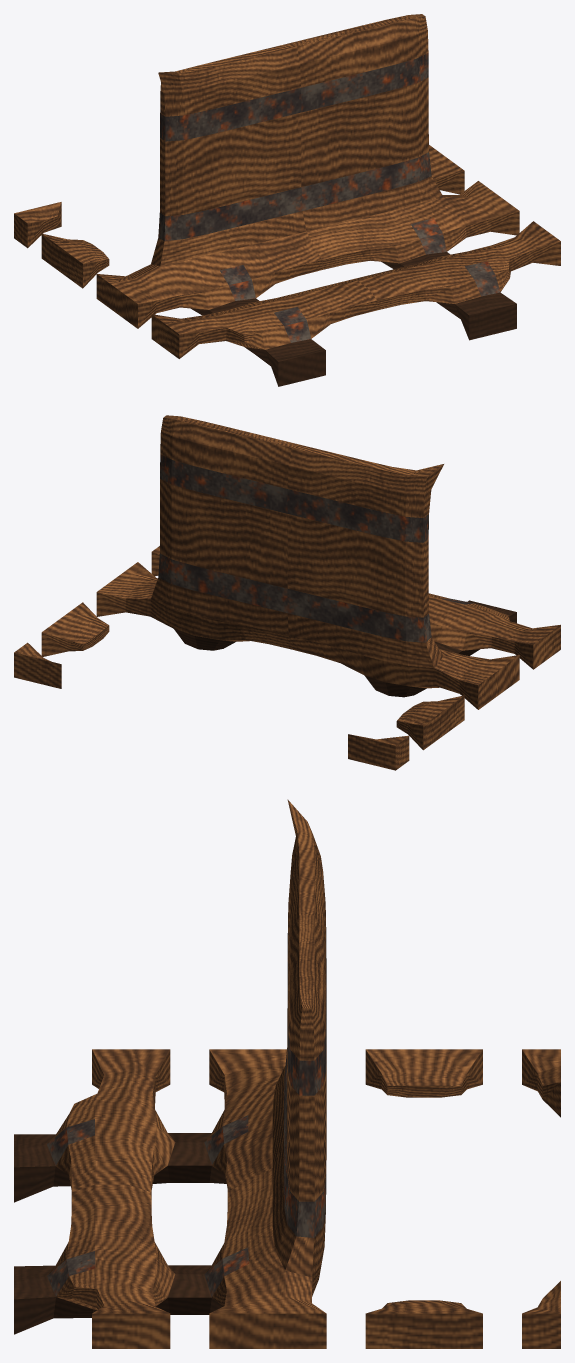
File: platform_deck_hatch.glb
3 views of the same model, one above another, from view 1: azimuth 30°, elevation 25°; view 2: azimuth 150°, elevation 25°; view 3: azimuth 270°, elevation 25° (orthographic). The views are drawn at different scales.
Parts seen in each view (by area): view 1: crypt_platform_deck_hatch; view 2: crypt_platform_deck_hatch; view 3: crypt_platform_deck_hatch.
Boxes of the visible parts, x1,y1,x2,y2 form: crypt_platform_deck_hatch: (14, 14, 560, 386); crypt_platform_deck_hatch: (14, 415, 560, 770); crypt_platform_deck_hatch: (14, 799, 560, 1348).
Size of the model in its own units: 1 by 0.625 by 0.875.
Materials: 1 (1 with a texture image).
